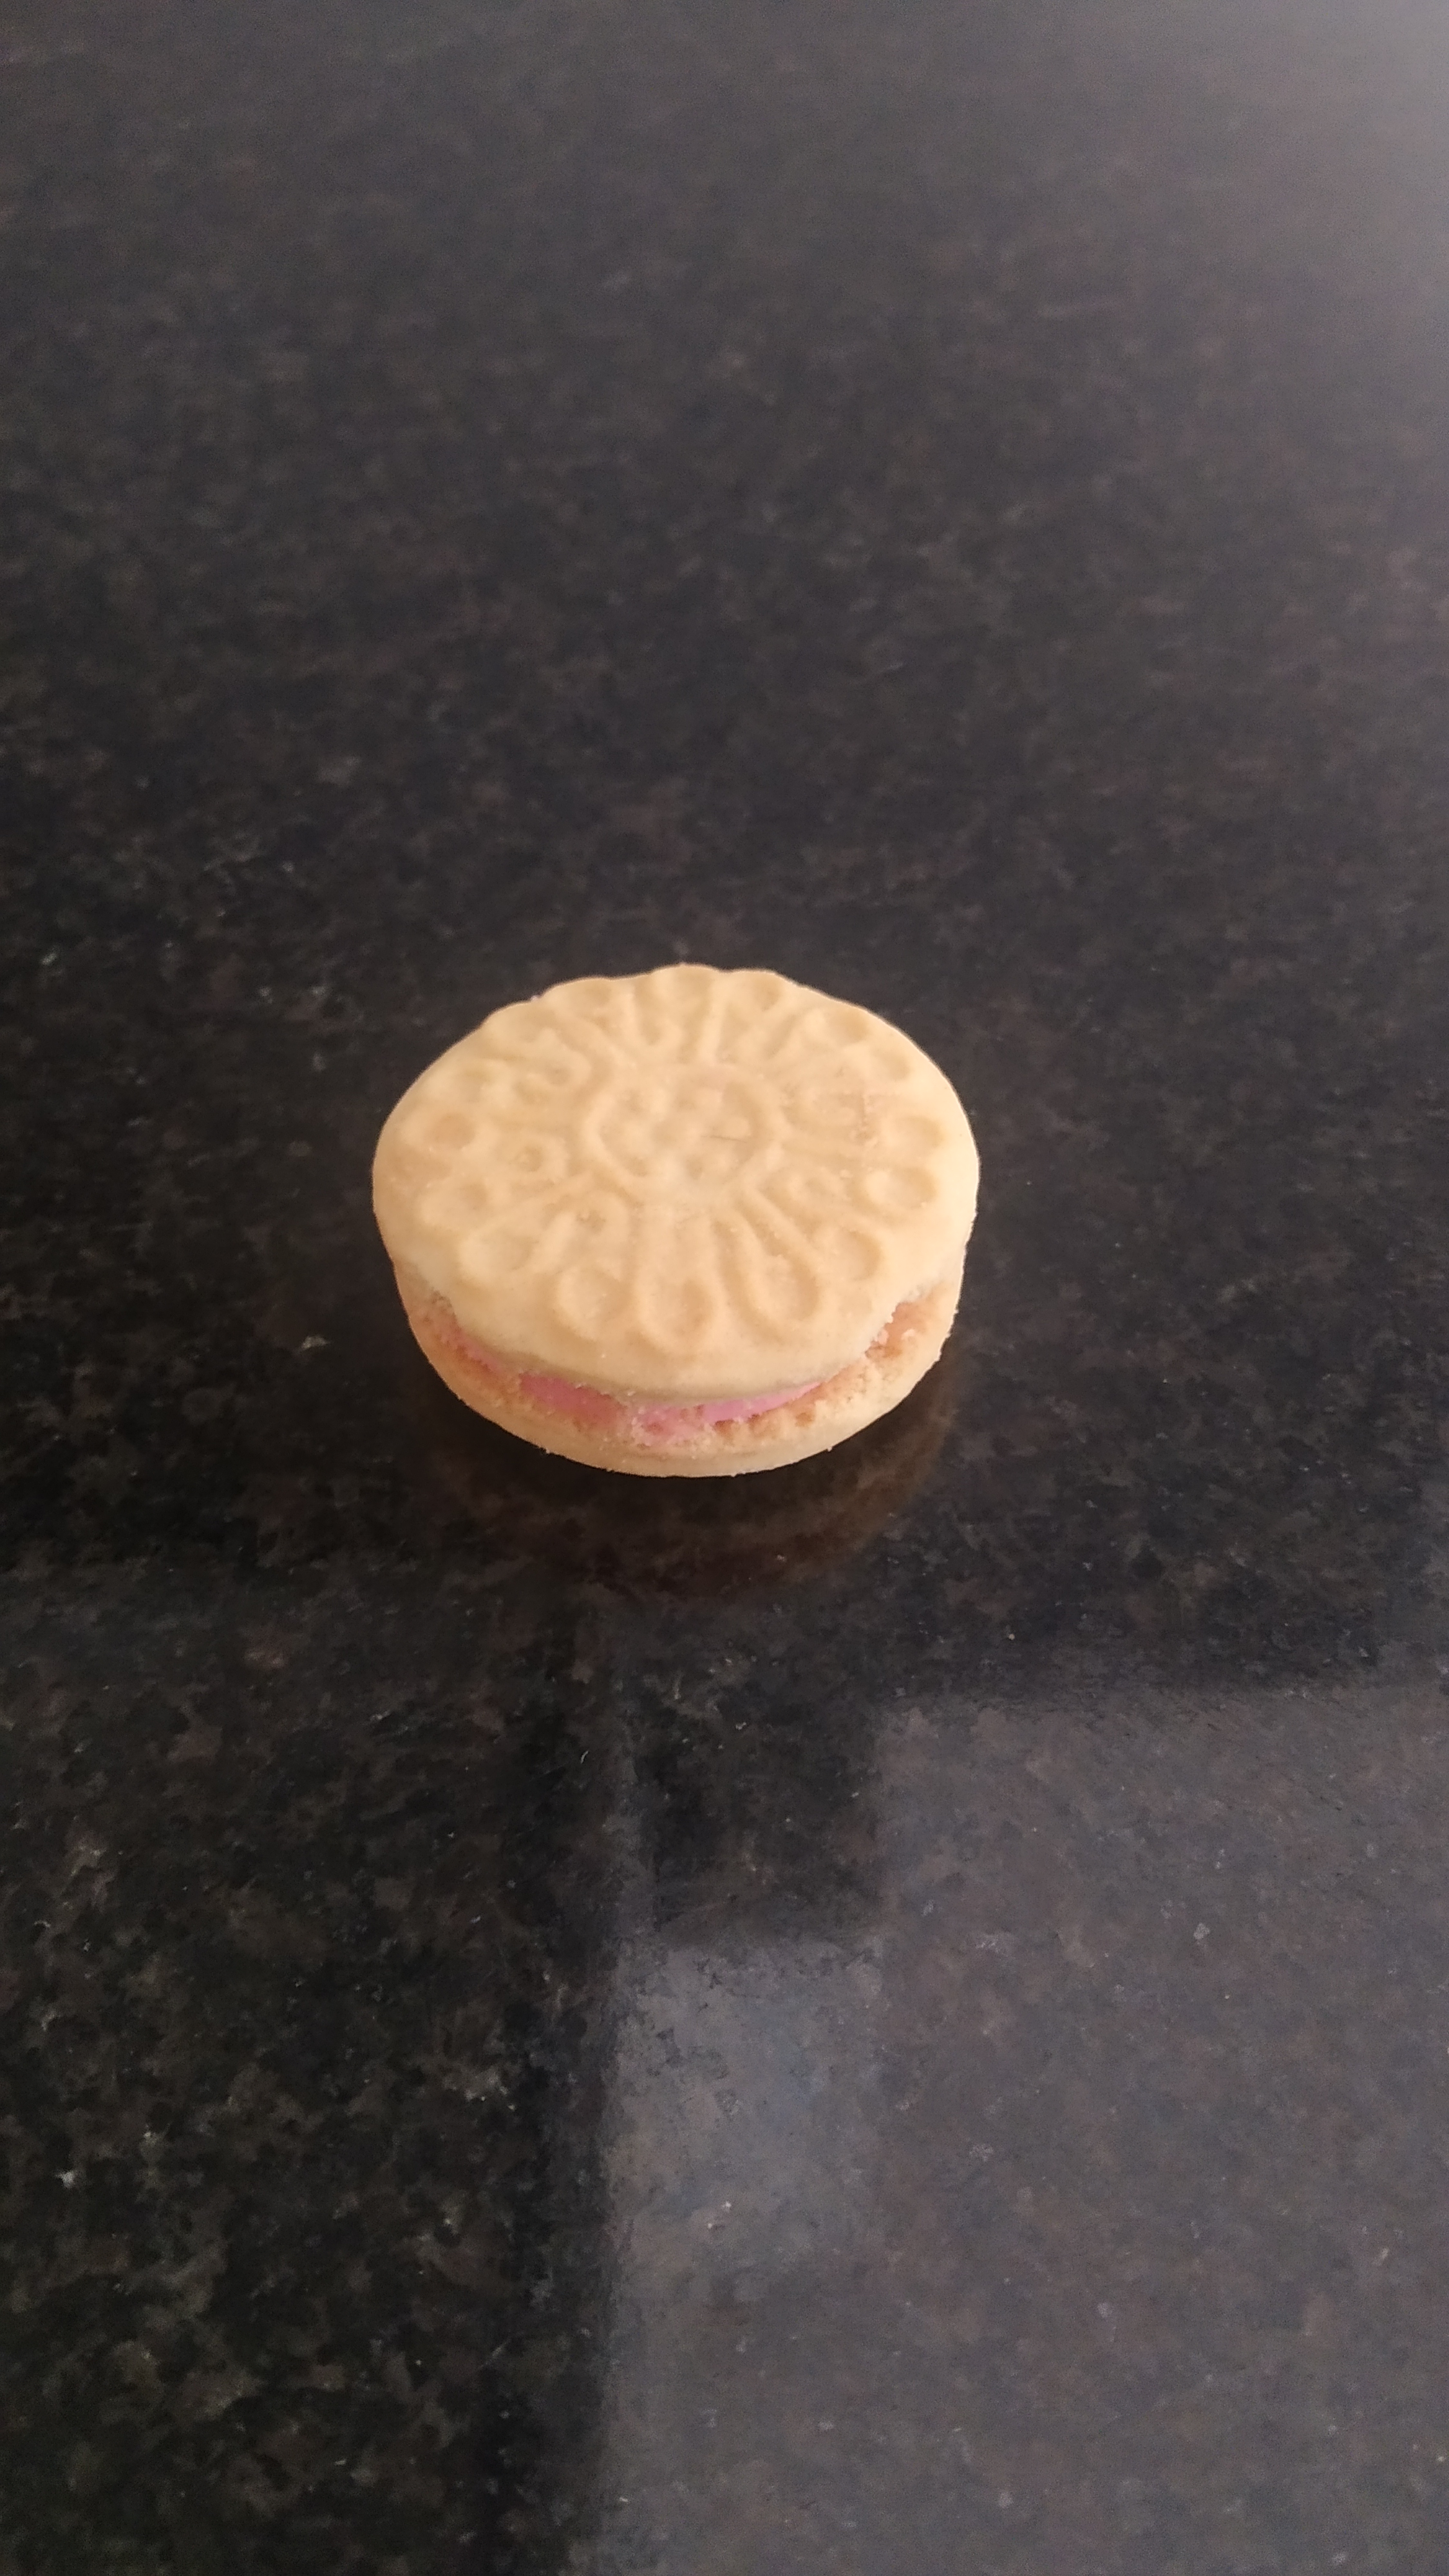lulu: (370, 964, 980, 1484)
